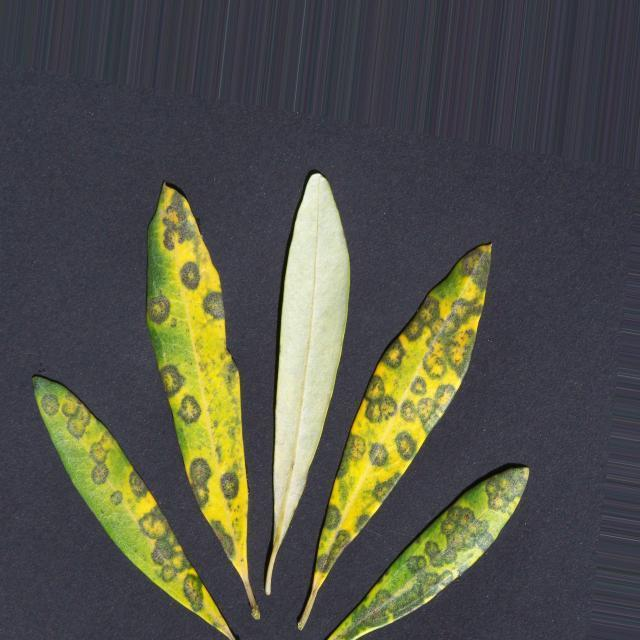OlivePeacockSpot: (306, 244, 490, 610), (32, 376, 236, 640), (146, 182, 248, 580), (328, 466, 528, 640)
